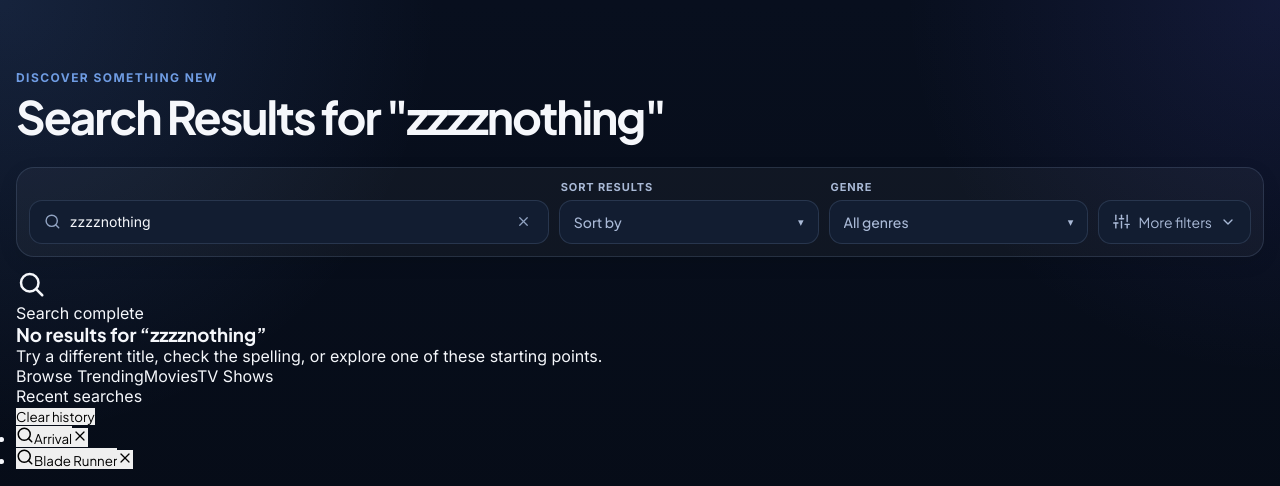
Scenario: Search no-results recovery › suggests earlier searches as a vertical list with remove buttons
expect the heading "No results for “zzzznothing”" is shown: met, box [16,323,267,346]
expect the text "Recent searches" is shown: met, box [16,386,142,406]
// Cleanup is available, matching the recent-searches list elsewhere.
Click the button named "Remove \"Blade Runner\" from search history". click: [125, 459]
box: [117,450,133,469]
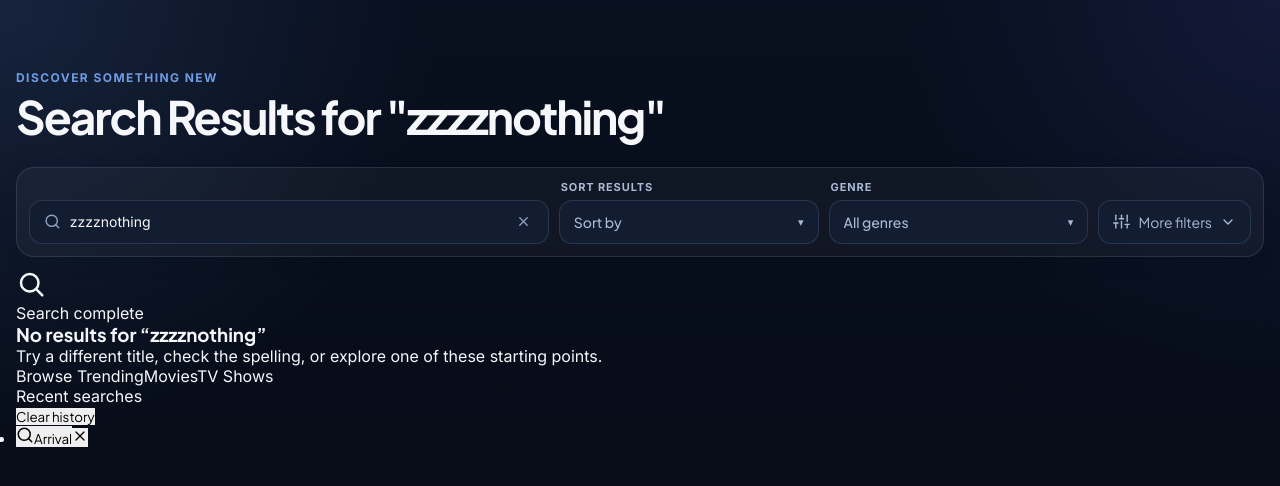
expect the button "Arrival" is shown: met, box [16,426,72,447]
expect the button "Blade Runner" is gone: met
